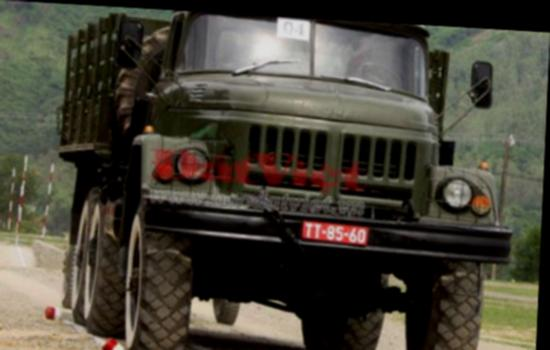License_Plate: (297, 215, 373, 252)
